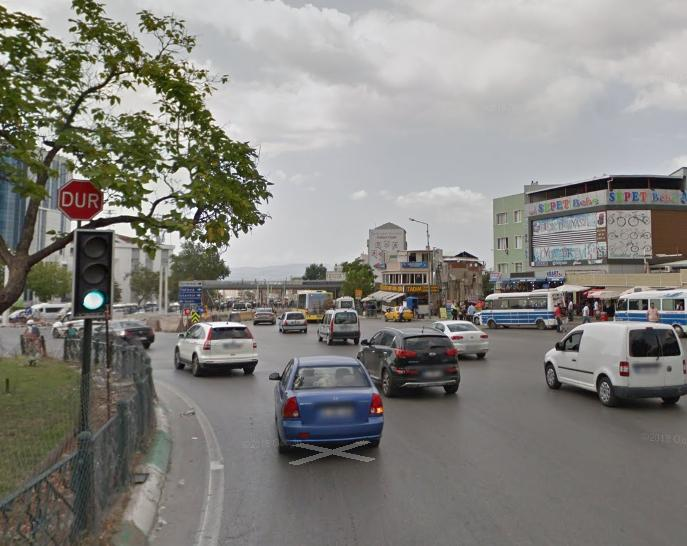greenlight: (75, 229, 113, 318)
stop: (56, 178, 104, 222)
